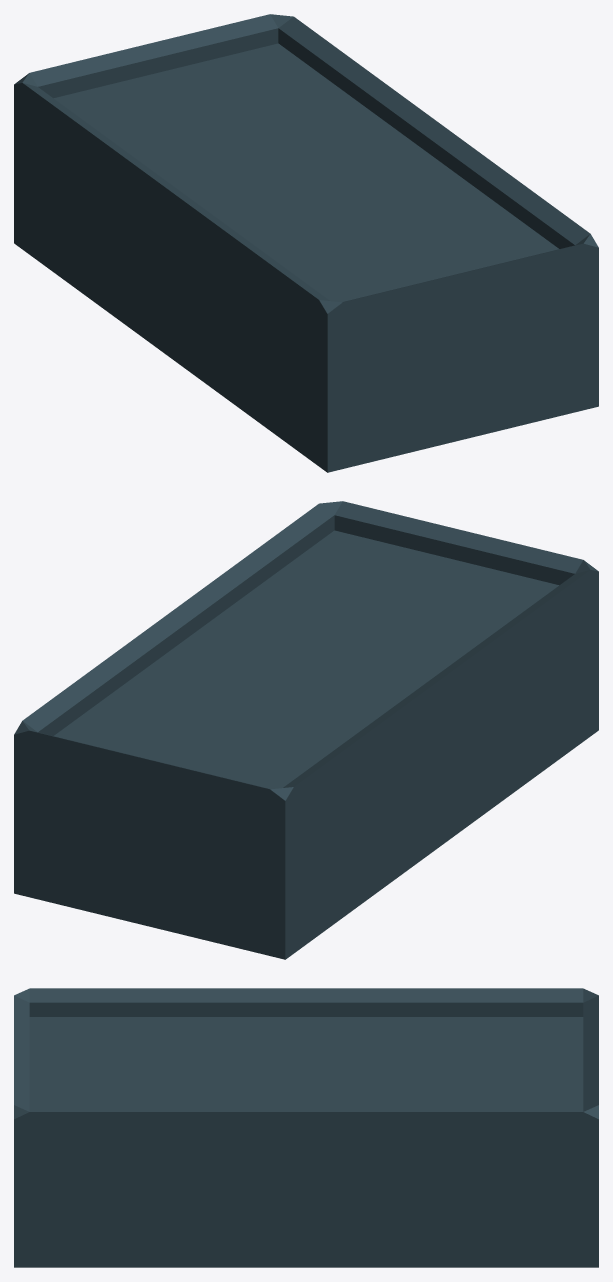
The model's file is shelf.fbx.
The picture shows the model from 3 angles, top to bottom: view 1: azimuth 30°, elevation 25°; view 2: azimuth 150°, elevation 25°; view 3: azimuth 270°, elevation 25°; orthographic projection. The views are drawn at different scales.
Visible parts, largest first — view 1: shelf2.006; view 2: shelf2.006; view 3: shelf2.006.
Boxes of the visible parts, <box> form: shelf2.006: <box>14,14,598,472</box>; shelf2.006: <box>14,501,598,959</box>; shelf2.006: <box>14,988,598,1267</box>.
Bounding box in the file's own units: 0.3636 × 0.2133 × 0.7272.
